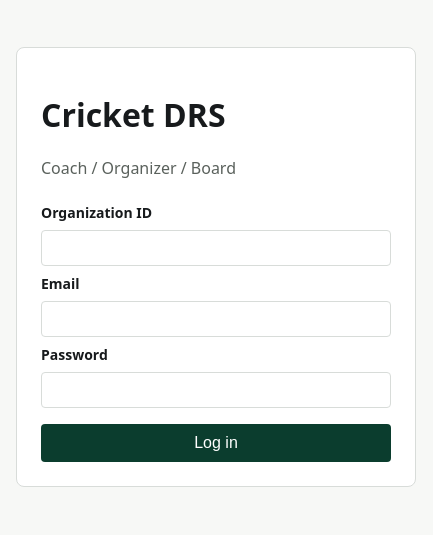
Test: LoginPage › shows an error message when login fails
Type "org-1" into the field labelled "Organization ID" at (216, 248), box [41, 230, 391, 266]
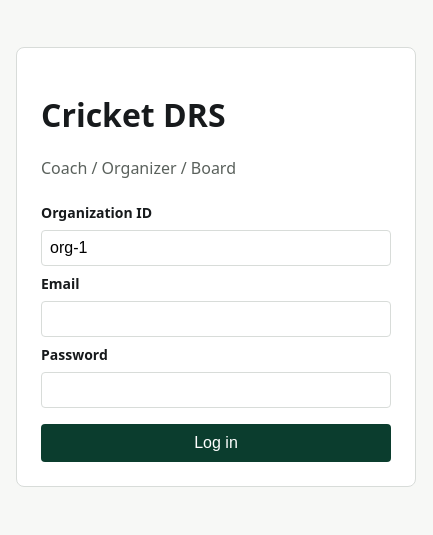
Type "bad@example.com" into the field labelled "Email" at (216, 319), box [41, 301, 391, 337]
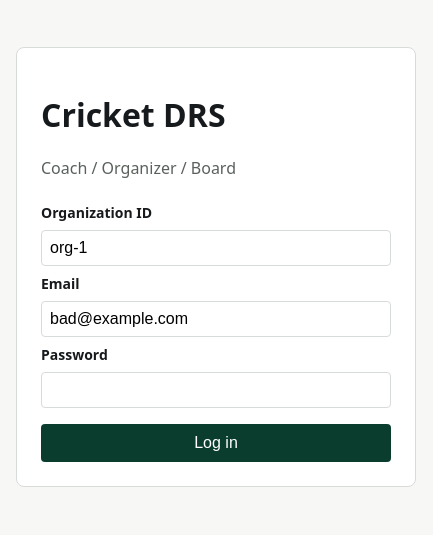
Type "wrong" into the password field labelled "Password" at (216, 390), box [41, 372, 391, 408]
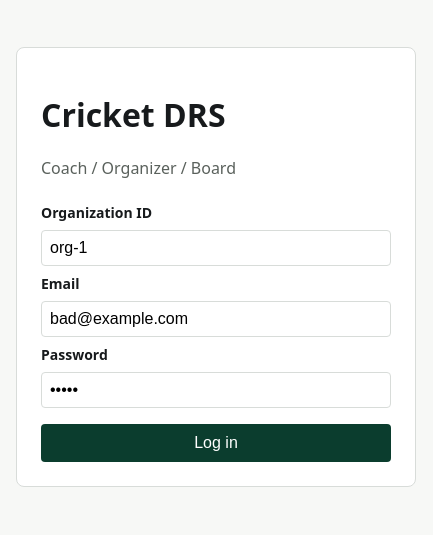
Click the button "Log in" at (216, 443), box [41, 424, 391, 462]
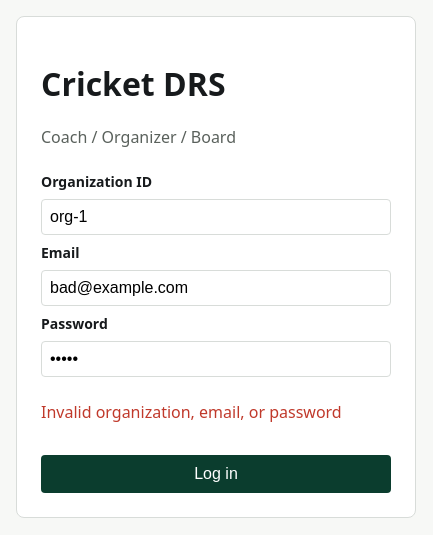
Expected: the text "Invalid organization, email, or password" is shown, [41, 401, 391, 423]
